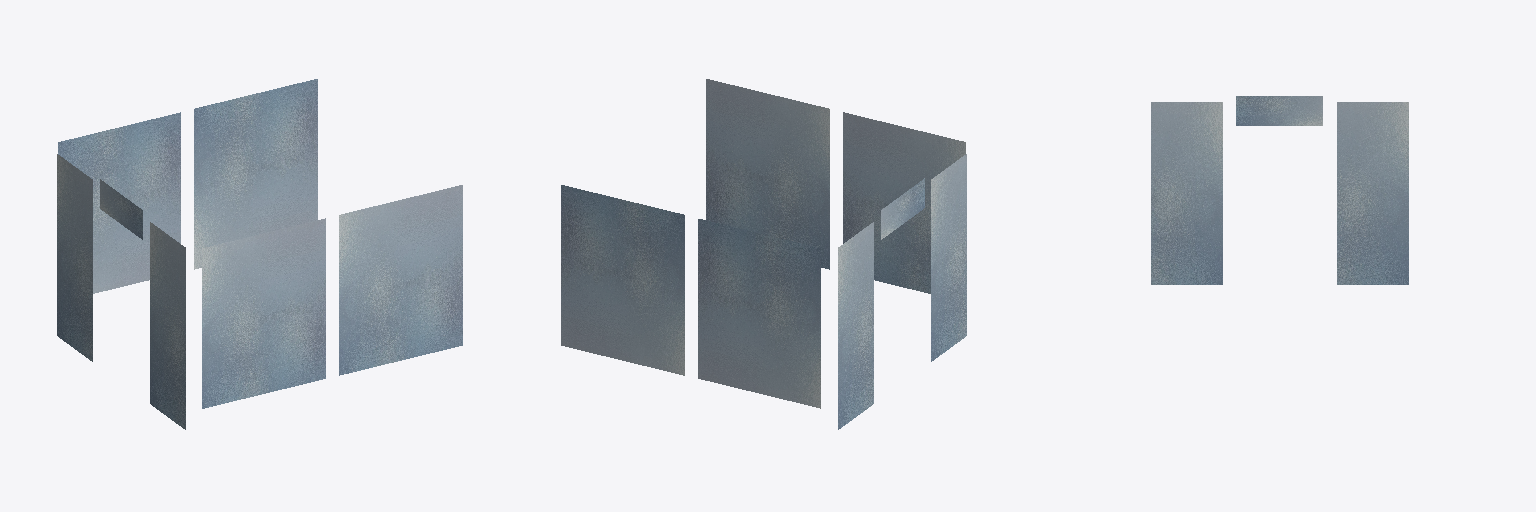
3 renders of one model, left to right at view 1: azimuth 30°, elevation 25°; view 2: azimuth 150°, elevation 25°; view 3: azimuth 270°, elevation 25°, orthographic.
Parts seen in each view (by area): view 1: VidriosPanaderia:polySurface112; view 2: VidriosPanaderia:polySurface112; view 3: VidriosPanaderia:polySurface112.
Part boxes in pixels (bbox=[...]): VidriosPanaderia:polySurface112: bbox=[57, 79, 462, 429]; VidriosPanaderia:polySurface112: bbox=[561, 79, 966, 429]; VidriosPanaderia:polySurface112: bbox=[1151, 96, 1408, 284].
Bounding box in the file's own units: 44.8 × 30.01 × 41.72.
1 materials, 1 textured.